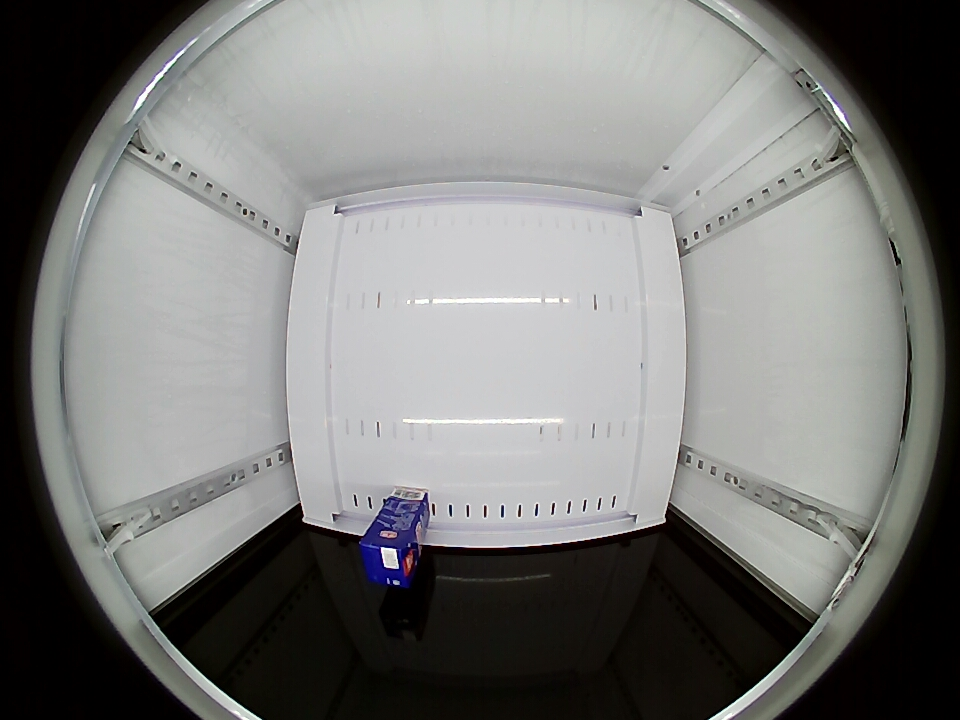bingqilinniunai: (359, 524, 421, 588)
